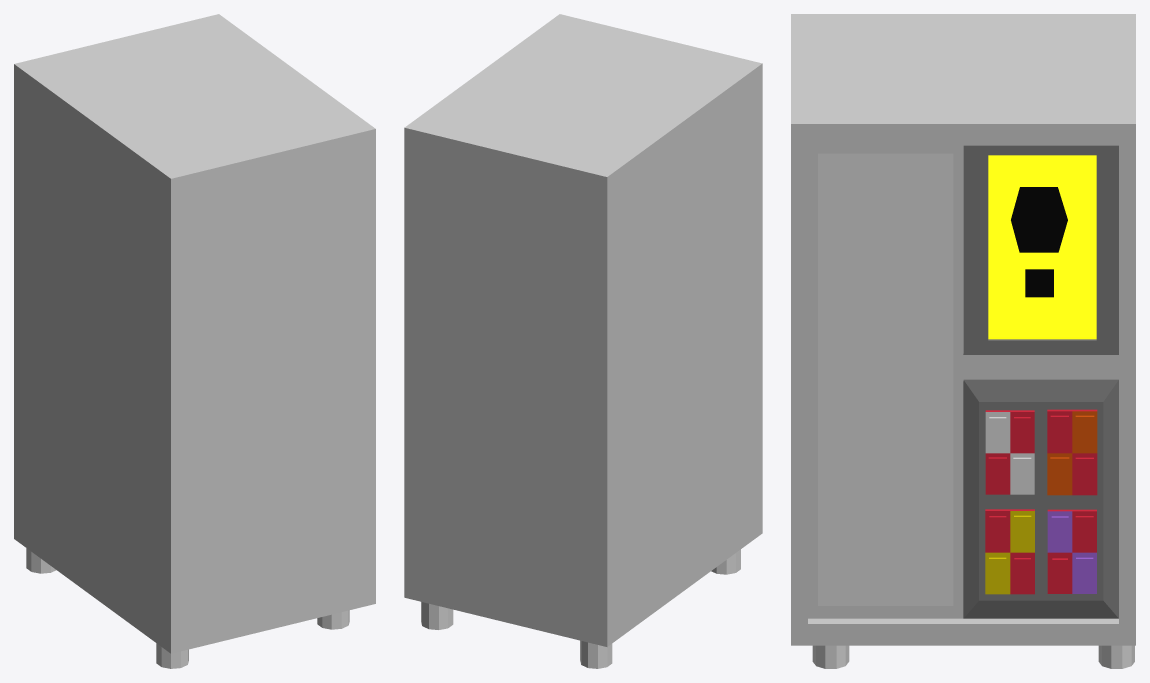
The model's file is Vending.fbx.
The picture shows the model from 3 angles, left to right: view 1: azimuth 30°, elevation 25°; view 2: azimuth 150°, elevation 25°; view 3: azimuth 270°, elevation 25°; orthographic projection. The views are drawn at different scales.
Visible parts, largest first — view 1: Cube, Cylinder.003; view 2: Cube, Cylinder.002, Cylinder.001; view 3: Cube, Plane, Cylinder, Cylinder.001.
Boxes of the visible parts, x1,y1,x2,y2 form: Cube: (14, 14, 375, 653); Cylinder.003: (156, 643, 188, 668); Cube: (404, 14, 762, 646); Cylinder.002: (580, 640, 612, 668); Cylinder.001: (421, 602, 453, 629); Cube: (791, 14, 1135, 645); Plane: (1011, 187, 1067, 297); Cylinder: (812, 645, 849, 668); Cylinder.001: (1098, 645, 1134, 668).
Bounding box in the file's own units: 200 × 468 × 265.
